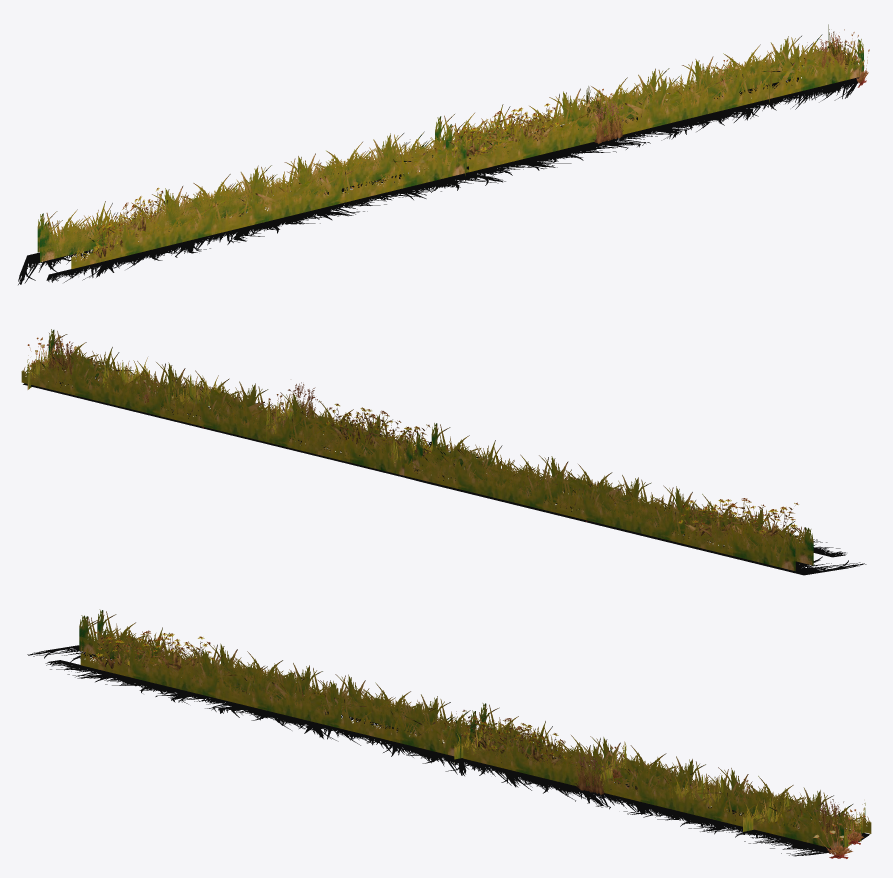
The model's file is grass_left.obj.
3 renders of one model, top to bottom at view 1: azimuth 30°, elevation 25°; view 2: azimuth 150°, elevation 25°; view 3: azimuth 330°, elevation 25°, orthographic. The views are drawn at different scales.
Visible parts, largest first — view 1: pPlane37; view 2: pPlane37; view 3: pPlane37.
Boxes of the visible parts, bbox=[...] form: pPlane37: bbox=[18, 24, 869, 284]; pPlane37: bbox=[21, 329, 866, 575]; pPlane37: bbox=[27, 609, 871, 858].
Bounding box in the file's own units: 45.57 × 2.81 × 4.53.
